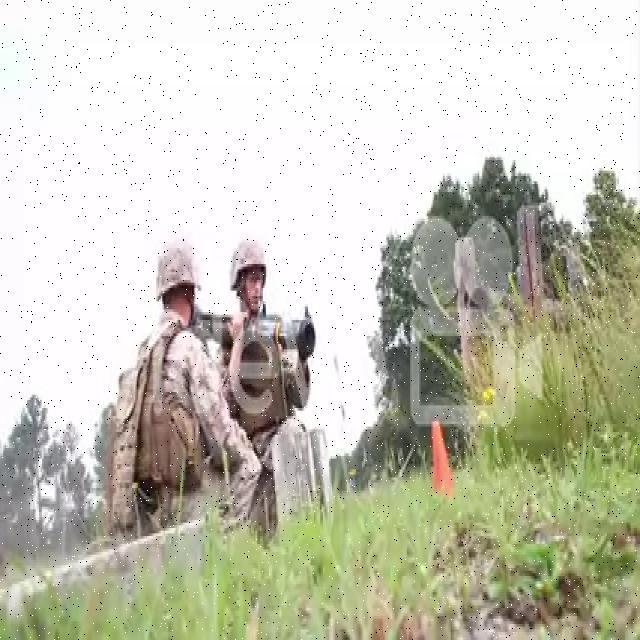bazooka: (189, 305, 319, 362)
